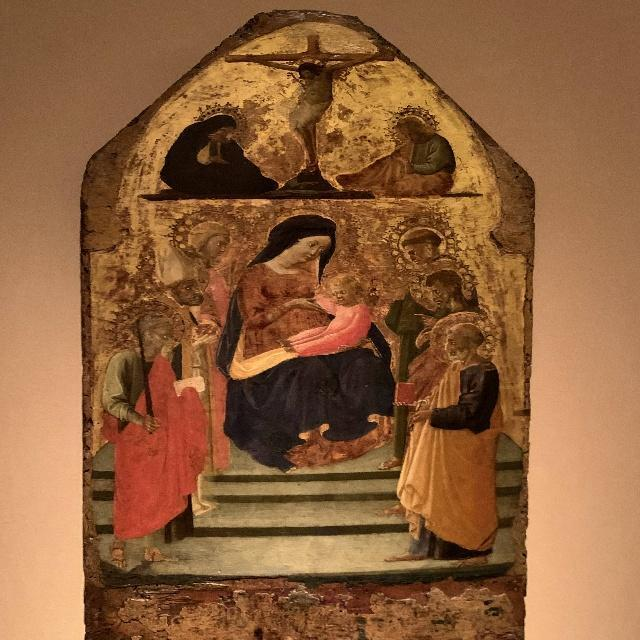aura: (251, 204, 362, 273), (113, 299, 191, 354), (380, 219, 466, 266), (167, 209, 246, 260), (431, 310, 506, 363), (406, 258, 481, 305), (197, 102, 251, 143), (321, 267, 378, 301), (386, 104, 439, 140)
christ_crucifixion: (224, 25, 402, 201)
christ_kid: (281, 256, 386, 359)
mary: (246, 200, 389, 464), (154, 105, 273, 200)
saint: (400, 309, 501, 561), (108, 295, 197, 568), (158, 207, 232, 477), (401, 258, 478, 416), (354, 103, 456, 198), (141, 242, 223, 349), (394, 209, 457, 290)
